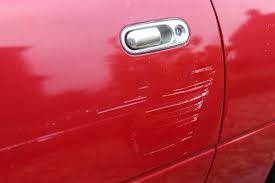Scratch: (68, 63, 217, 165), (1, 121, 87, 154)
